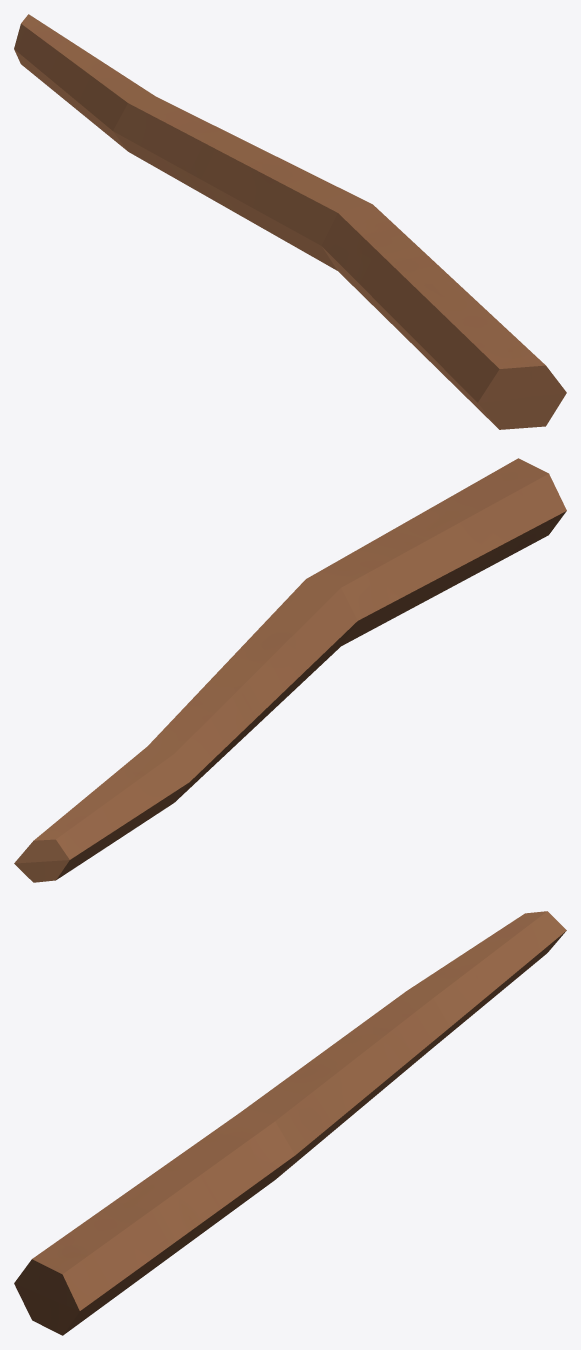
The model's file is Tree_Branch_01.fbx.
3 views of the same model, one above another, from view 1: azimuth 30°, elevation 25°; view 2: azimuth 150°, elevation 25°; view 3: azimuth 330°, elevation 25° (orthographic).
Parts seen in each view (by area): view 1: Tree_Branch_01; view 2: Tree_Branch_01; view 3: Tree_Branch_01.
Part boxes in pixels (x1,y1,x2,y2): Tree_Branch_01: (14,14,566,429); Tree_Branch_01: (14,458,566,882); Tree_Branch_01: (14,911,566,1335).
Size of the model in its own units: 9.86 by 7.47 by 89.29.
